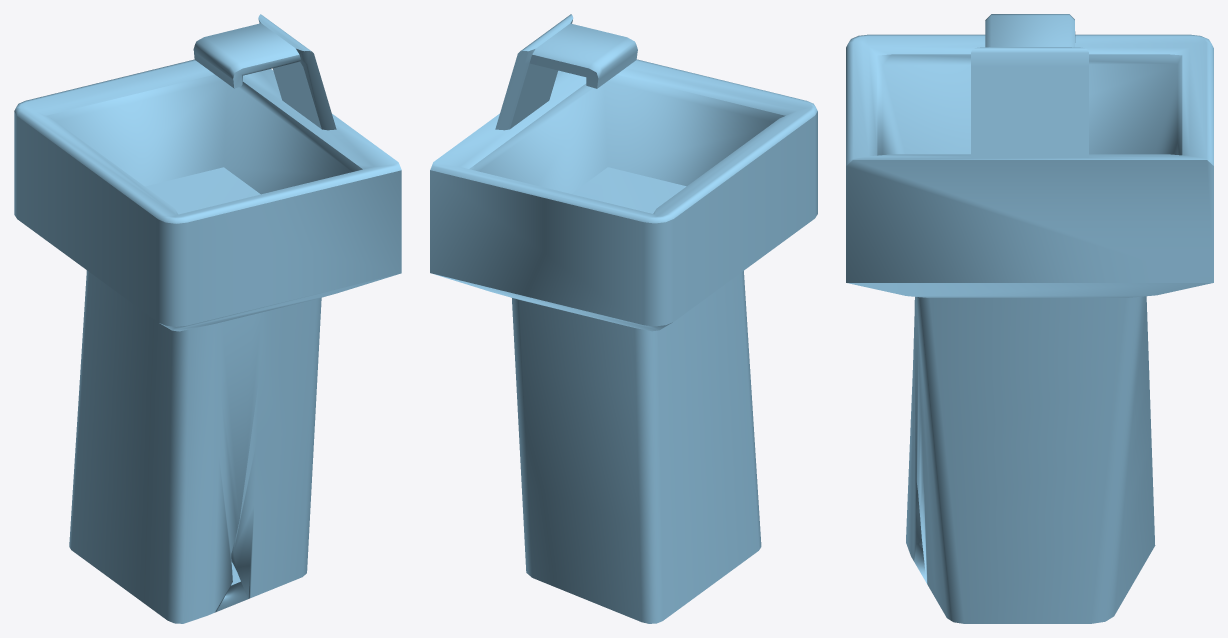
The model's file is Evier.fbx.
3 renders of one model, left to right at view 1: azimuth 30°, elevation 25°; view 2: azimuth 150°, elevation 25°; view 3: azimuth 270°, elevation 25°, orthographic. The views are drawn at different scales.
Visible parts, largest first — view 1: Evier; view 2: Evier; view 3: Evier.
Part boxes in pixels (x1,y1,x2,y2): Evier: (14,14,401,623); Evier: (430,14,817,623); Evier: (846,14,1213,623).
Size of the model in its own units: 56.7 by 68.57 by 119.
